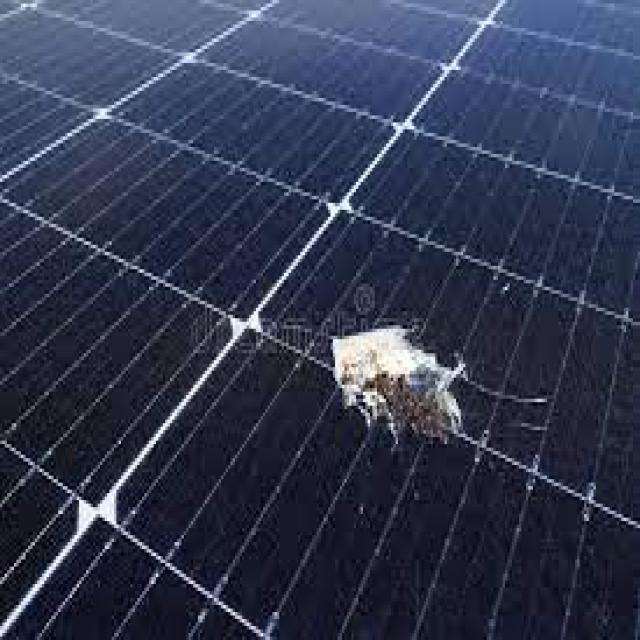Bird-drop: (332, 320, 548, 450)
